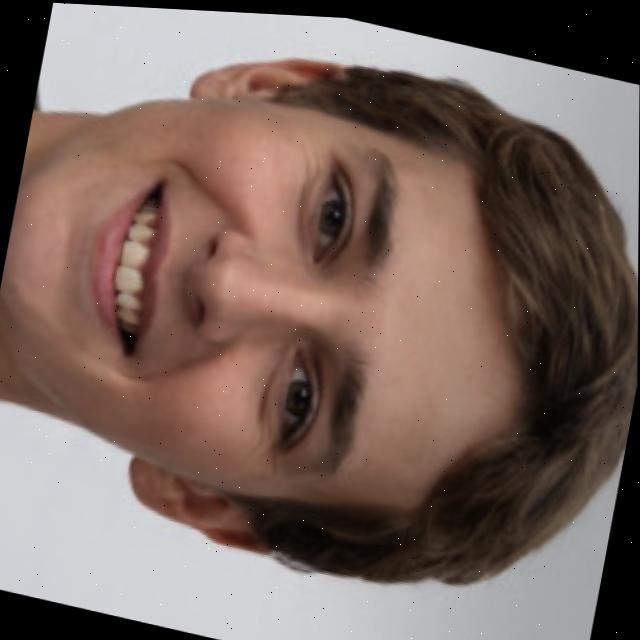Happy: (0, 0, 640, 601)
